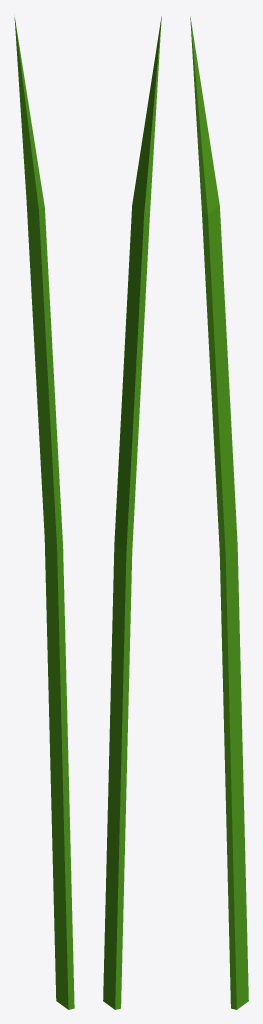
File: GrassSingle_a_03.fbx
The picture shows the model from 3 angles, left to right: view 1: azimuth 30°, elevation 25°; view 2: azimuth 210°, elevation 25°; view 3: azimuth 330°, elevation 25°; orthographic projection. The views are drawn at different scales.
Parts seen in each view (by area): view 1: GrassSingle_a_03_LOD0; view 2: GrassSingle_a_03_LOD0; view 3: GrassSingle_a_03_LOD0.
Part boxes in pixels (box(x1,y1,x2,y2)): GrassSingle_a_03_LOD0: box(14, 17, 74, 1009); GrassSingle_a_03_LOD0: box(103, 16, 161, 1009); GrassSingle_a_03_LOD0: box(190, 16, 248, 1009).
Size of what is drawn, in the model's own units: 1.63 by 28.98 by 0.6451.
